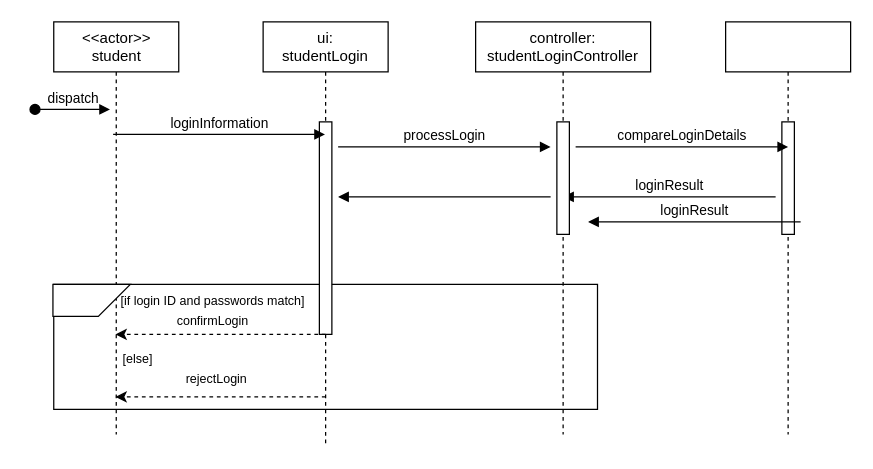
Image size: 873x469. Some labels were removed from this diagram. Here are the shapes that lost their labels. From the top down, the box of each, then its label:
(724, 21, 851, 434): database
(52, 283, 130, 316): alt
